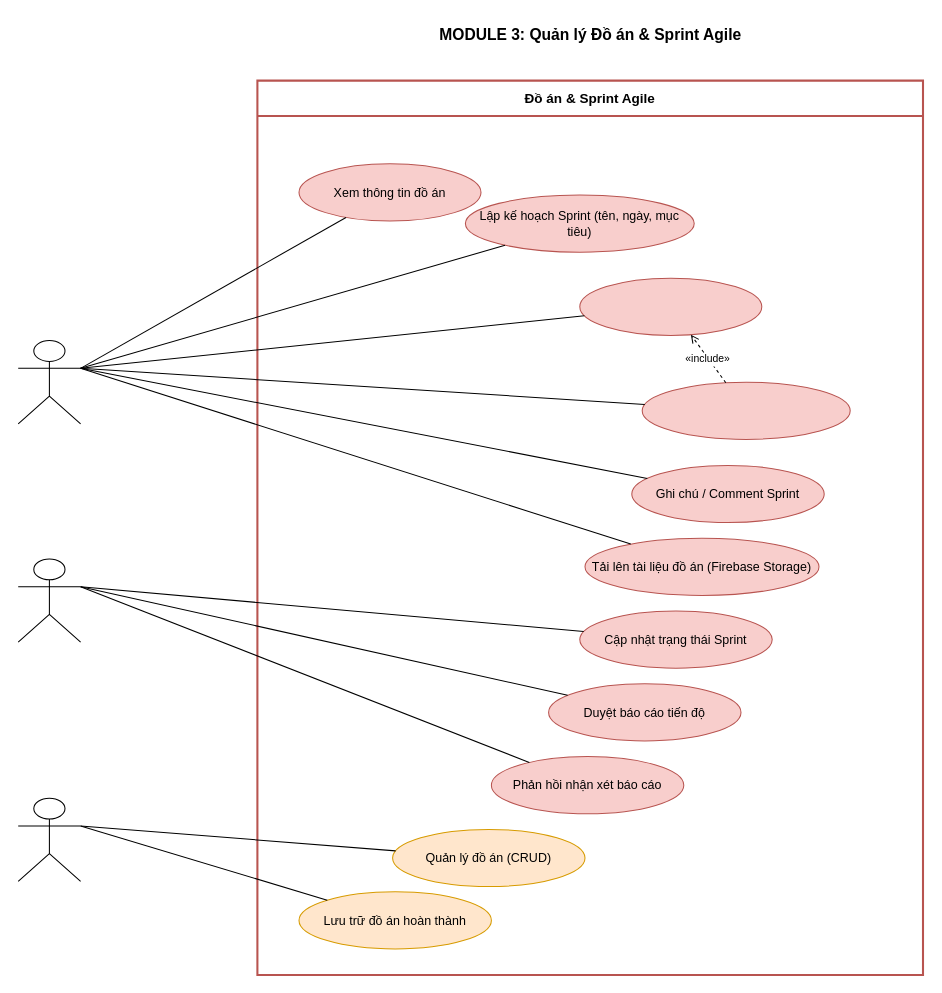
This 942x993 diagram has some shape labels left out. Each missing label, with the centre of its shape:
Admin: [49,839]
Giảng viên: [49,600]
Nộp báo cáo tiến độ Sprint: [745,410]
Sinh viên: [49,382]
Xem danh sách Sprint: [670,306]
